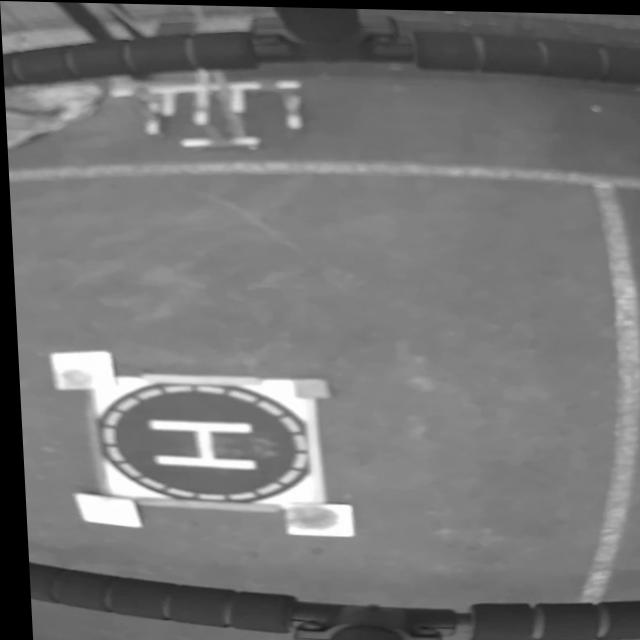Helipad: (144, 417, 252, 468)
